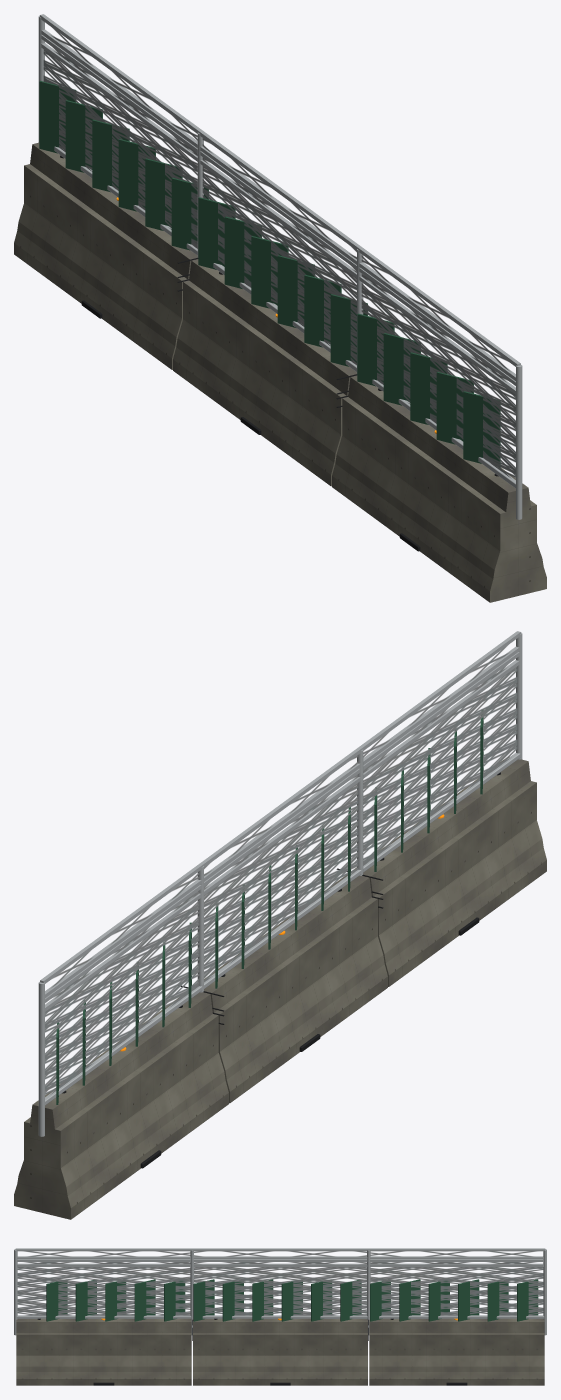
3 renders of one model, top to bottom at view 1: azimuth 30°, elevation 25°; view 2: azimuth 150°, elevation 25°; view 3: azimuth 270°, elevation 25°, orthographic. The views are drawn at different scales.
Visible parts, largest first — view 1: opt_top_mesh (×4), opt_top_glare (×4), opt_profile_vertical, opt_profile_f, opt_profile_single, opt_profile_florida; view 2: opt_top_mesh (×4), opt_profile_vertical, opt_profile_f, opt_profile_single, opt_profile_florida, opt_top_glare (×3); view 3: opt_top_mesh (×4), opt_top_glare (×4), opt_profile_vertical, opt_profile_f, opt_profile_single, opt_profile_florida.
Boxes of the visible parts, x1,y1,x2,y2 form: opt_top_mesh (×4): (38, 14, 522, 519); opt_top_glare (×4): (39, 80, 515, 488); opt_profile_vertical: (24, 164, 536, 599); opt_profile_f: (17, 203, 545, 602); opt_profile_single: (30, 142, 541, 601); opt_profile_florida: (14, 231, 546, 602); opt_top_mesh (×4): (38, 631, 522, 1136); opt_profile_vertical: (24, 781, 536, 1215); opt_profile_f: (15, 820, 543, 1219); opt_profile_single: (20, 756, 530, 1215); opt_profile_florida: (14, 848, 546, 1219); opt_top_glare (×3): (45, 710, 520, 1105); opt_top_mesh (×4): (14, 1248, 546, 1335); opt_top_glare (×4): (16, 1279, 544, 1321); opt_profile_vertical: (16, 1333, 544, 1355); opt_profile_f: (16, 1336, 544, 1371); opt_profile_single: (16, 1318, 544, 1333); opt_profile_florida: (16, 1327, 544, 1385).
Bounding box in the file's own units: 0.67 × 2.42 × 9.06.
Materials: 6 (2 with a texture image).
